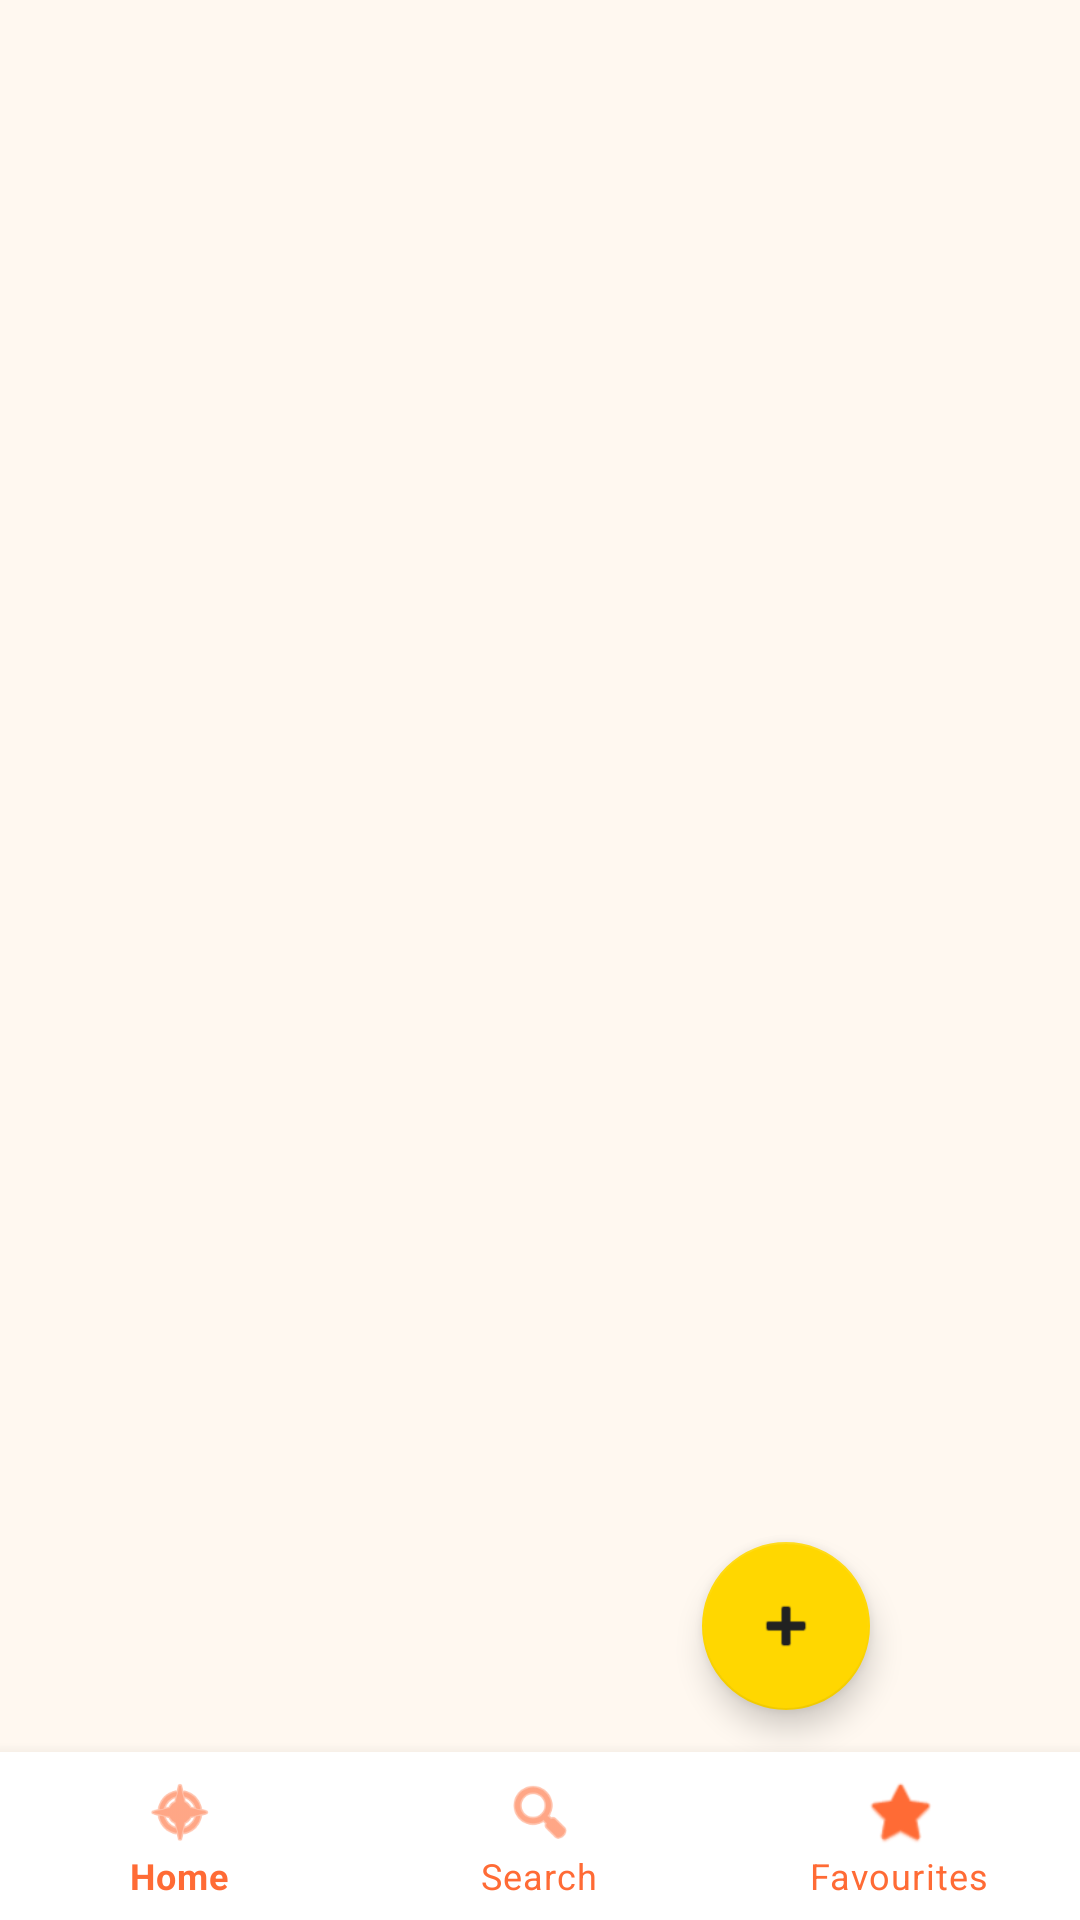

Icons on this 1080 × 1920 Android screen, each with its box as rect(x1, y1, x2, y2):
Add Recipe: rect(702, 1542, 870, 1710)
